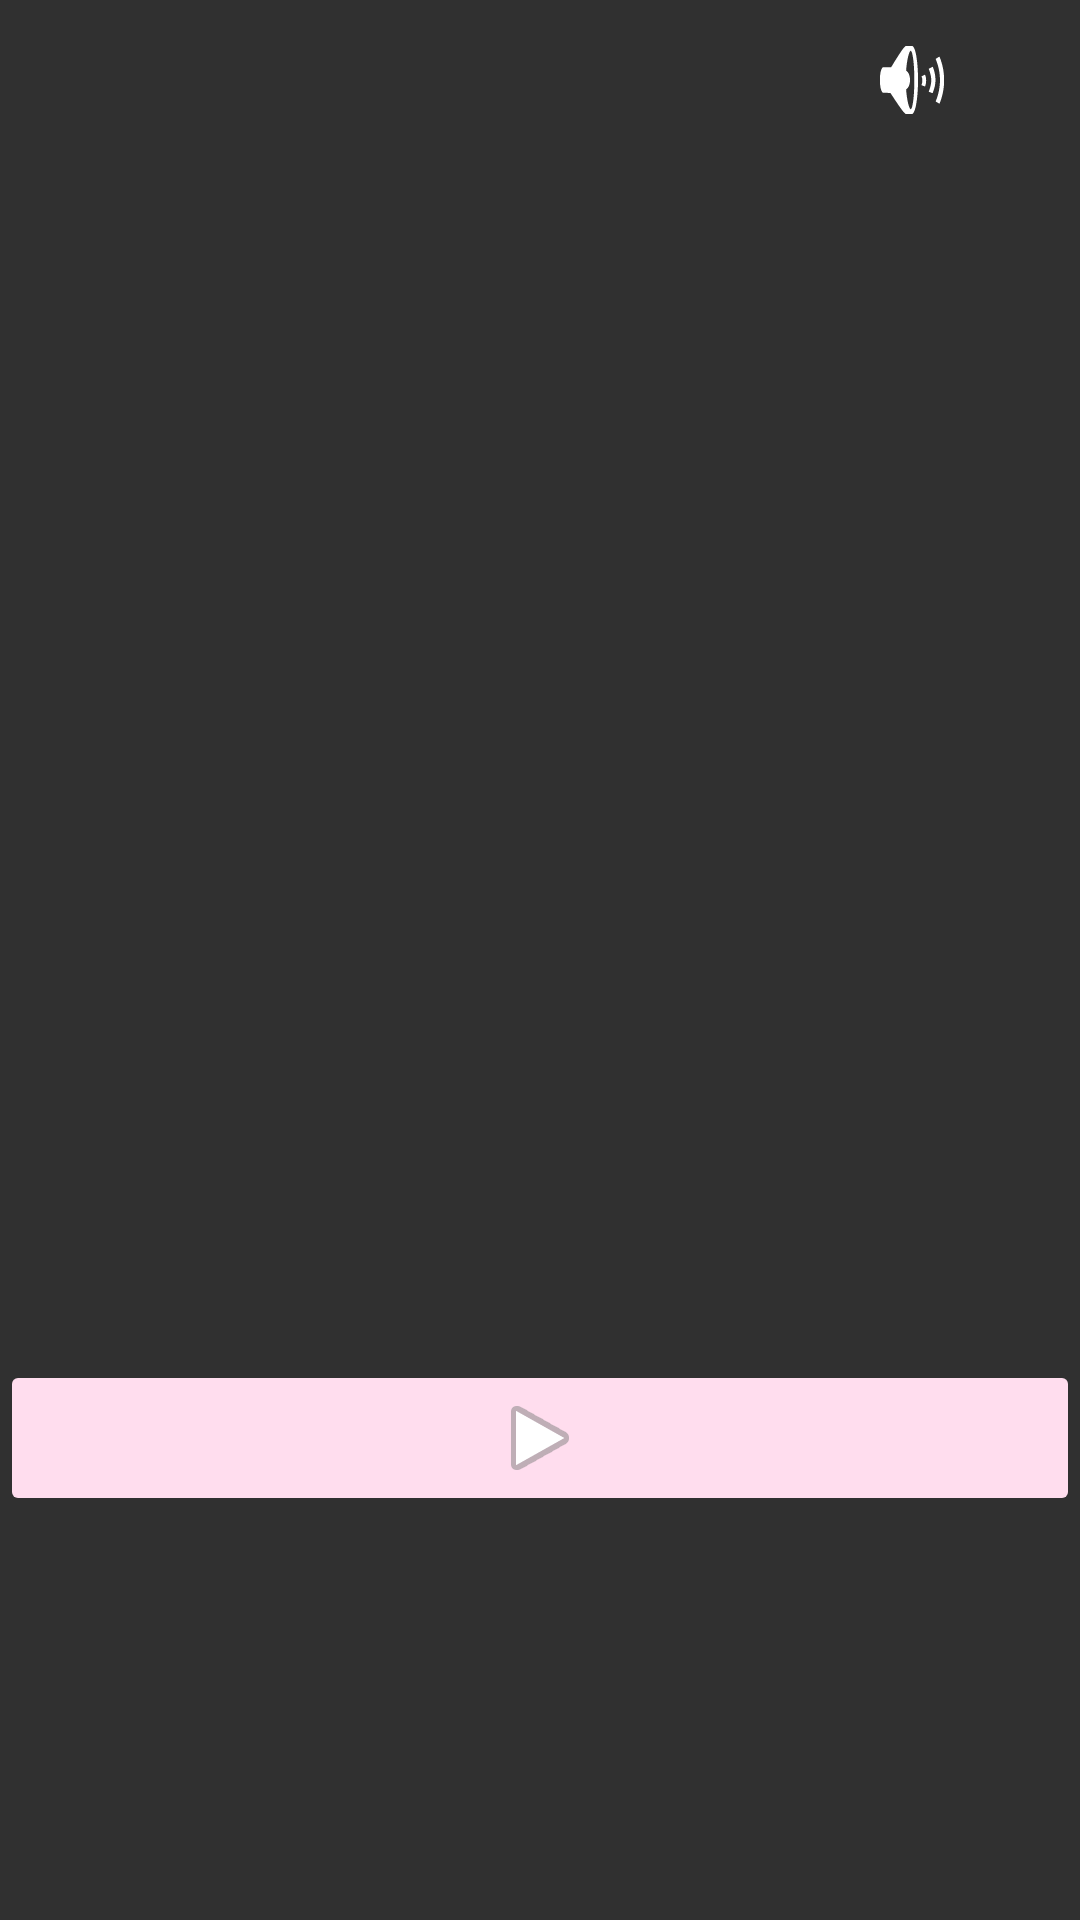

Point at icon controls on the screen. Image size 1080x1920, points as point (x, y).
lock silent mode off: point (912, 80)
